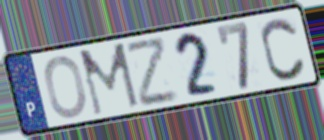2: (172, 29, 224, 102)
7: (214, 18, 253, 93)
C: (259, 16, 308, 83)
M: (76, 40, 142, 119)
O: (42, 53, 89, 120)
Z: (124, 34, 181, 110)
